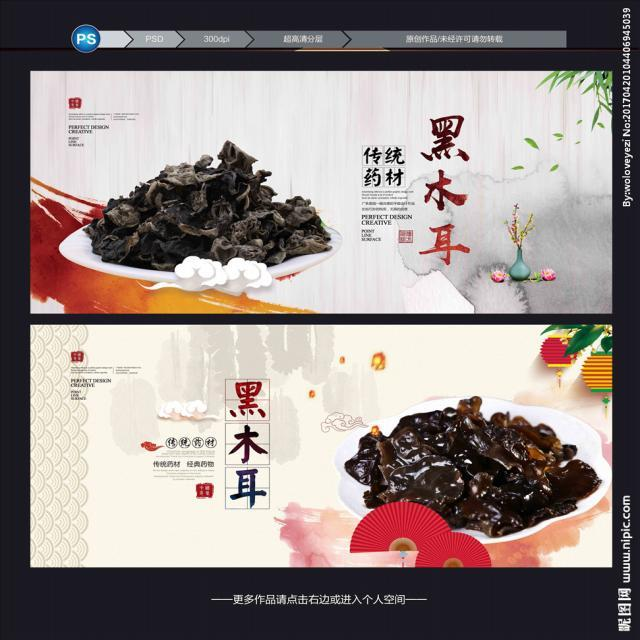Auricularia auricula: (352, 396, 601, 537), (91, 144, 327, 262)
